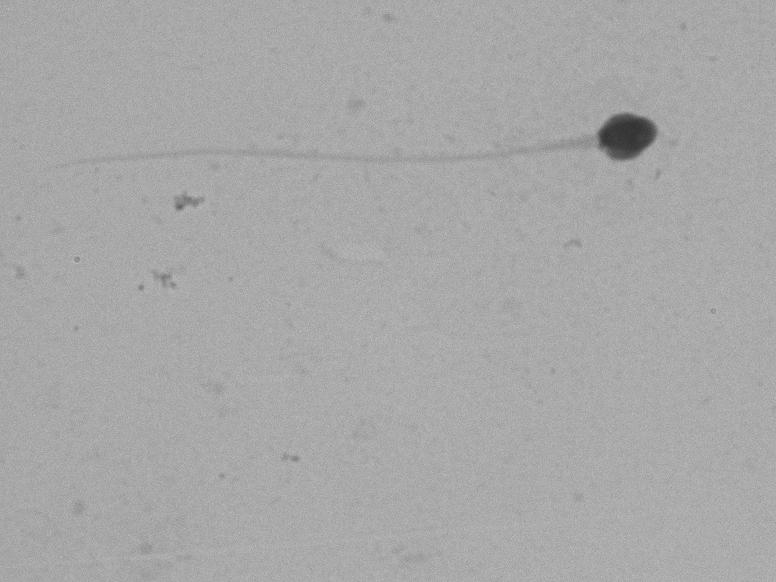Abnormal: (30, 72, 683, 211)
